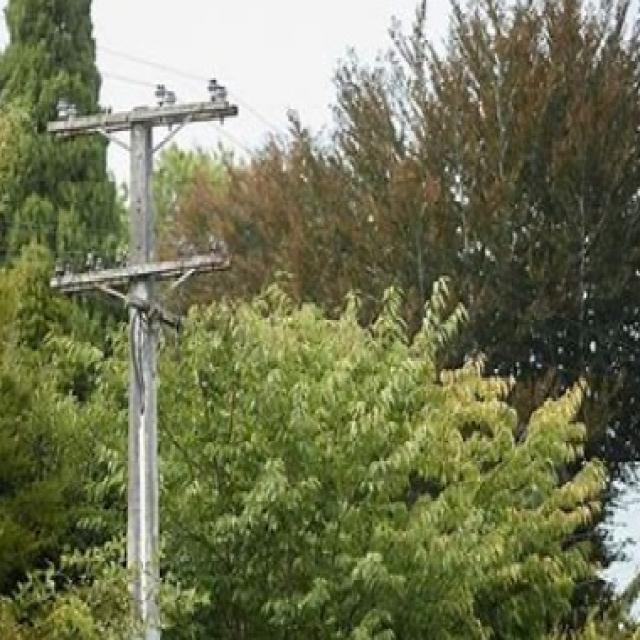utility poles: (52, 43, 220, 640)
